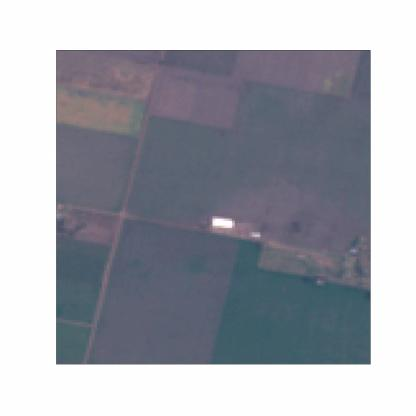silobolsa: (209, 215, 237, 230), (248, 232, 262, 236)
